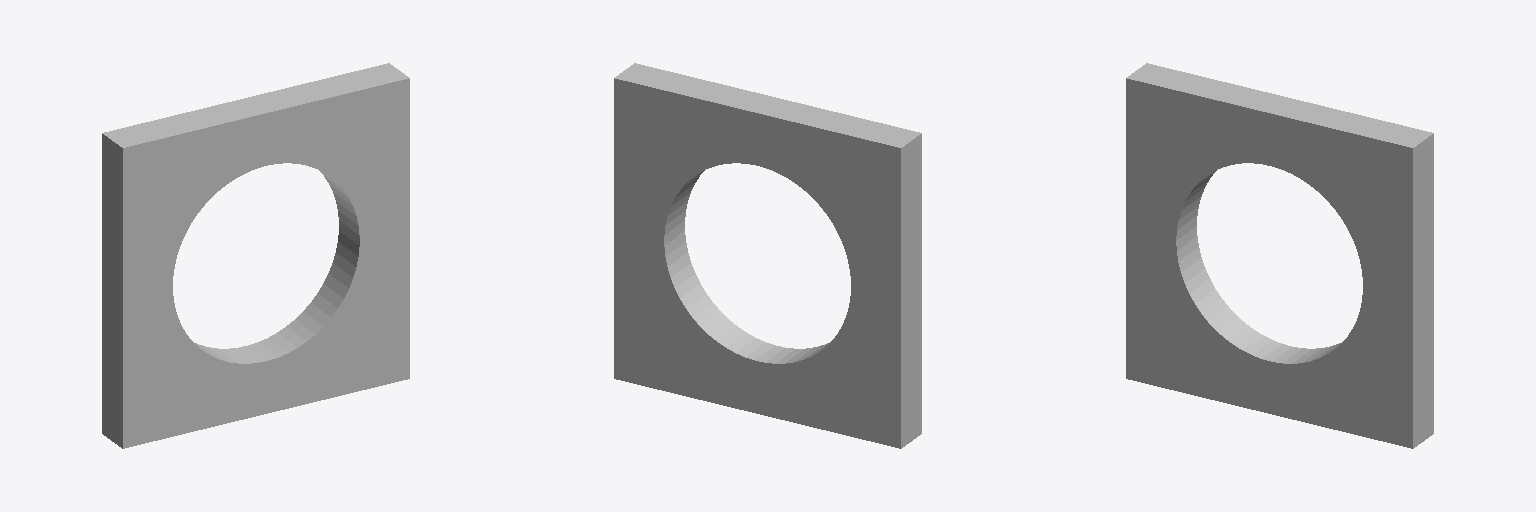
Rendered from green_round_hole_2in.obj.
3 renders of one model, left to right at view 1: azimuth 30°, elevation 25°; view 2: azimuth 150°, elevation 25°; view 3: azimuth 330°, elevation 25°, orthographic.
Bounding box in the file's own units: 0.08 × 0.08 × 0.01.